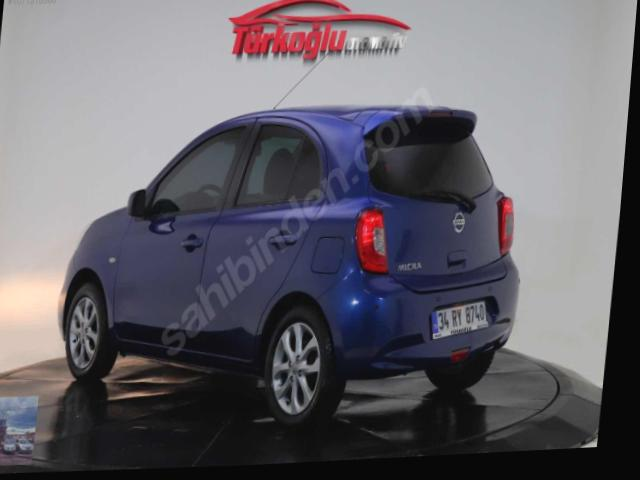plaka: (432, 300, 489, 339)
